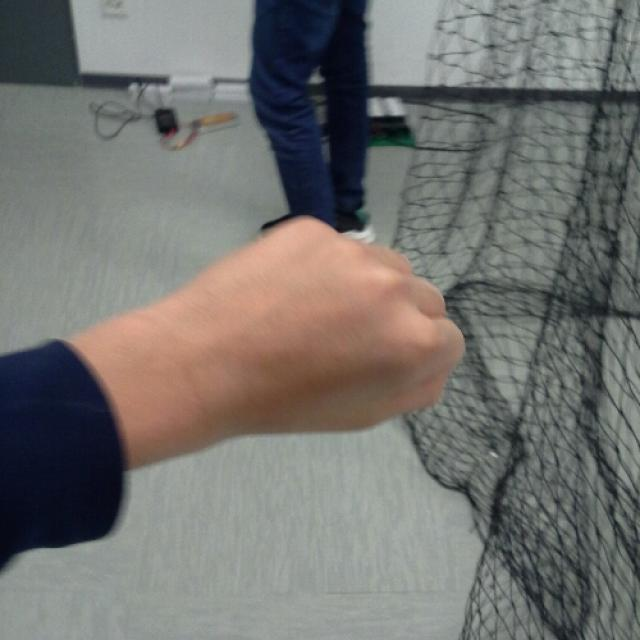rock: (240, 213, 466, 434)
